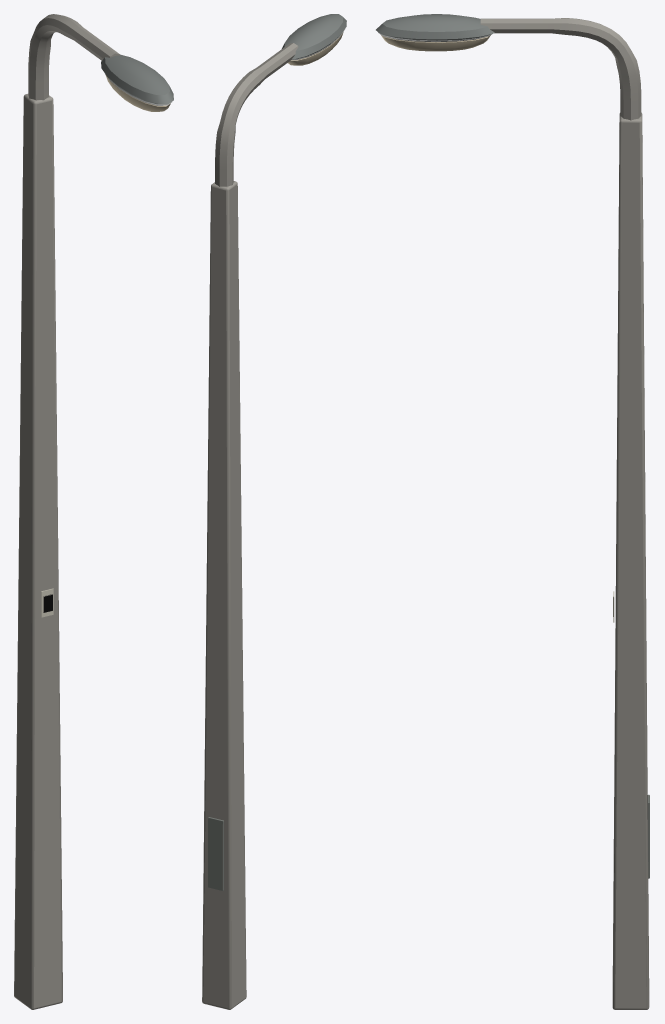
Rendered from street.light.column_sodium_concrete.glb.
3 renders of one model, left to right at view 1: azimuth 30°, elevation 25°; view 2: azimuth 150°, elevation 25°; view 3: azimuth 270°, elevation 25°, orthographic. The views are drawn at different scales.
Visible parts, largest first — view 1: main__concrete_999, main__enamel_787, main__lens_cba; view 2: main__concrete_999, main__enamel_787, main__paint_787, main__lens_cba; view 3: main__concrete_999, main__enamel_787, main__lens_cba.
Part boxes in pixels (x1,y1,x2,y2): main__concrete_999: [14, 14, 120, 1009]; main__enamel_787: [101, 54, 173, 104]; main__lens_cba: [105, 74, 170, 111]; main__concrete_999: [202, 43, 298, 1009]; main__enamel_787: [282, 14, 346, 59]; main__paint_787: [208, 817, 223, 890]; main__lens_cba: [288, 32, 343, 65]; main__concrete_999: [480, 18, 649, 1009]; main__enamel_787: [376, 14, 494, 43]; main__lens_cba: [380, 34, 490, 51].
Size of the model in its own units: 0.2565 by 6.22 by 1.57.
